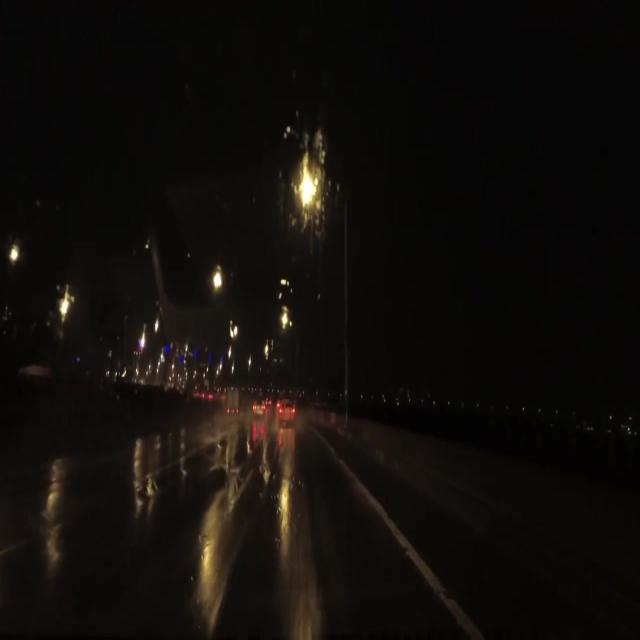Car: (275, 397, 295, 424), (251, 398, 266, 421)
